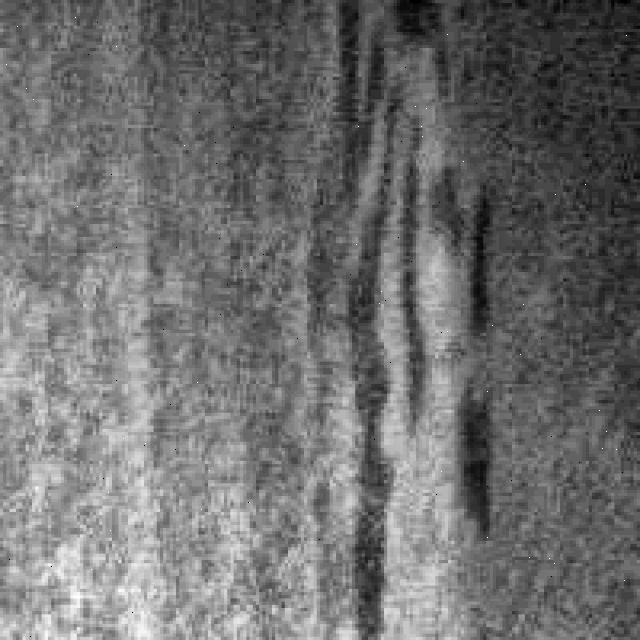Patches: (330, 0, 429, 630), (438, 163, 509, 541)
